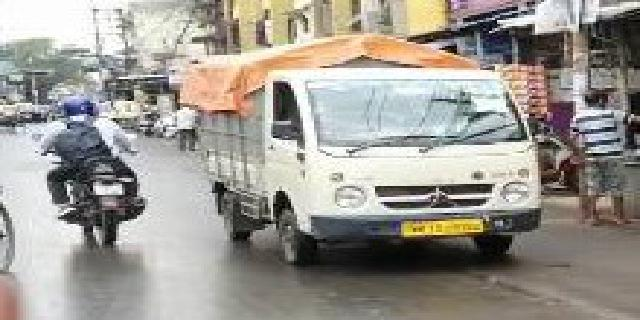Minitruck: (194, 27, 561, 291)
Motorbike: (43, 87, 145, 257)
